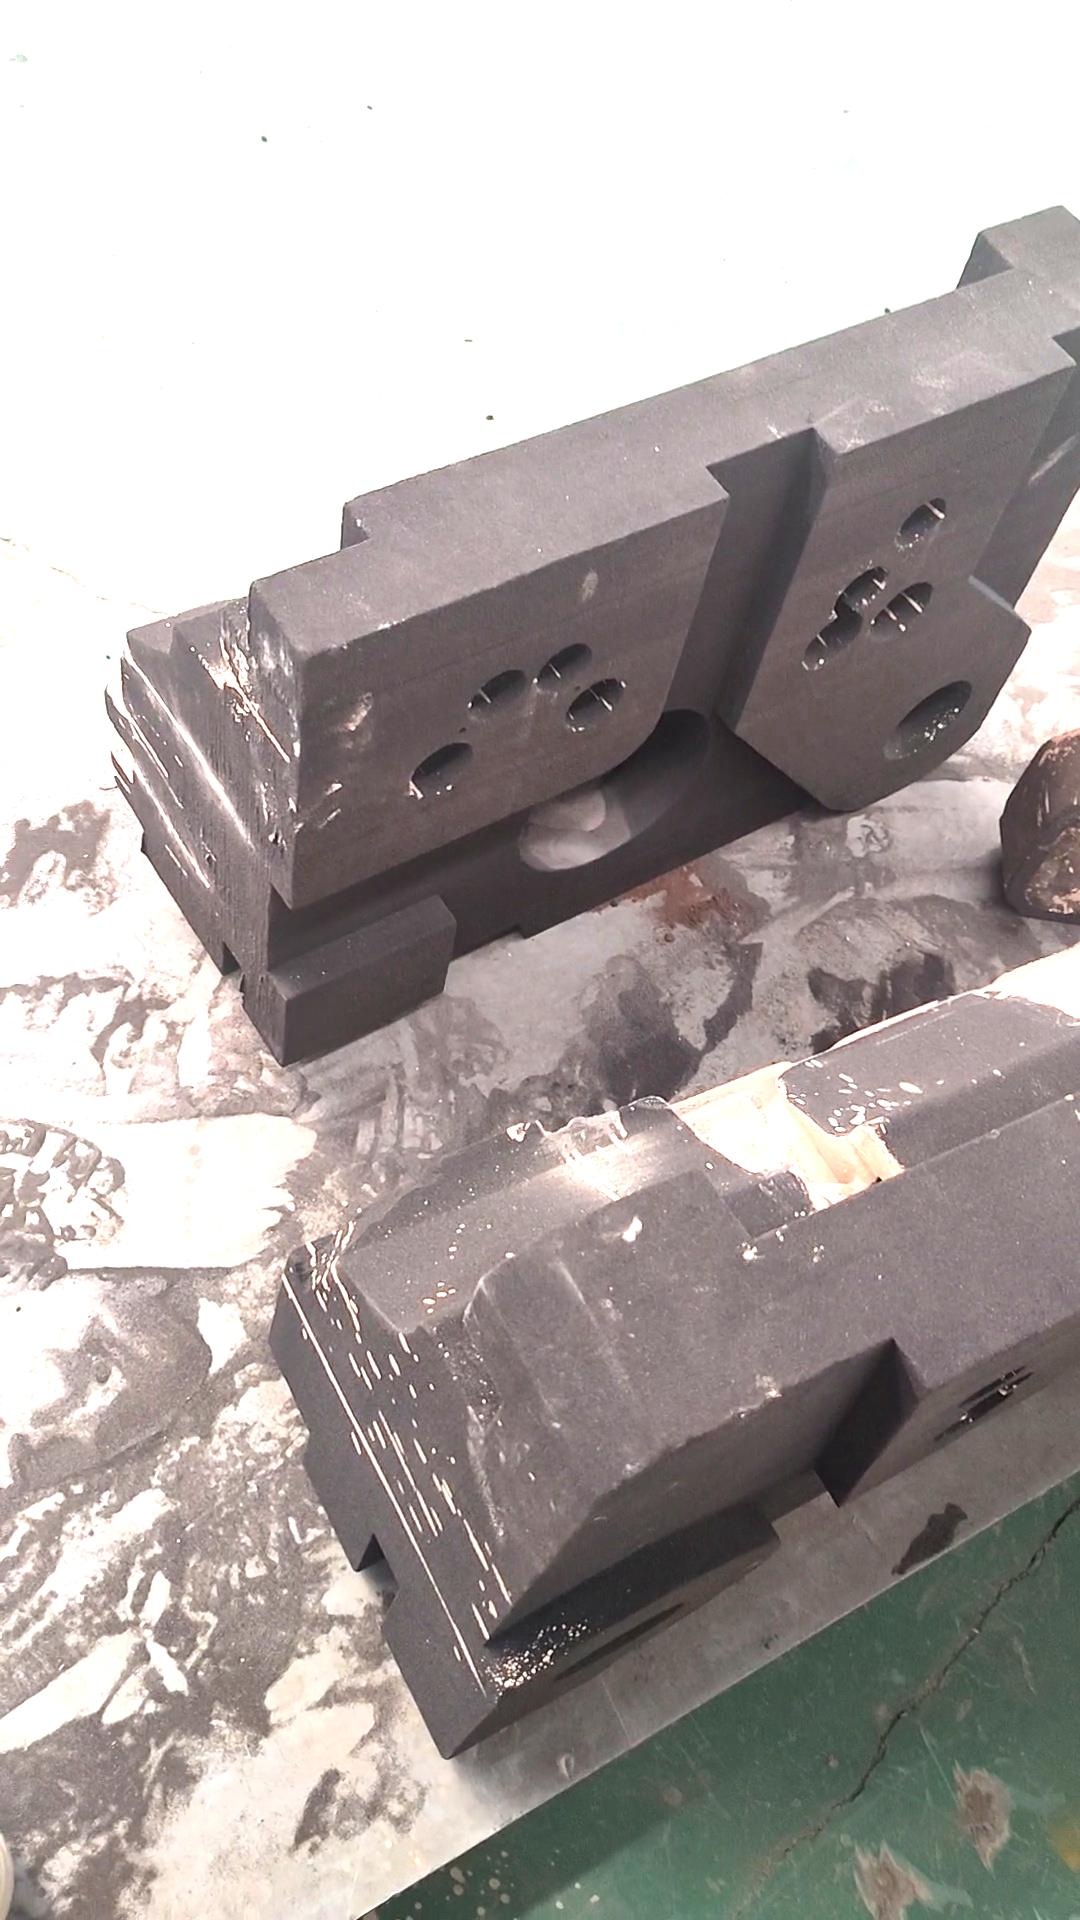pouring hole: (554, 1602, 686, 1684), (884, 675, 976, 762)
